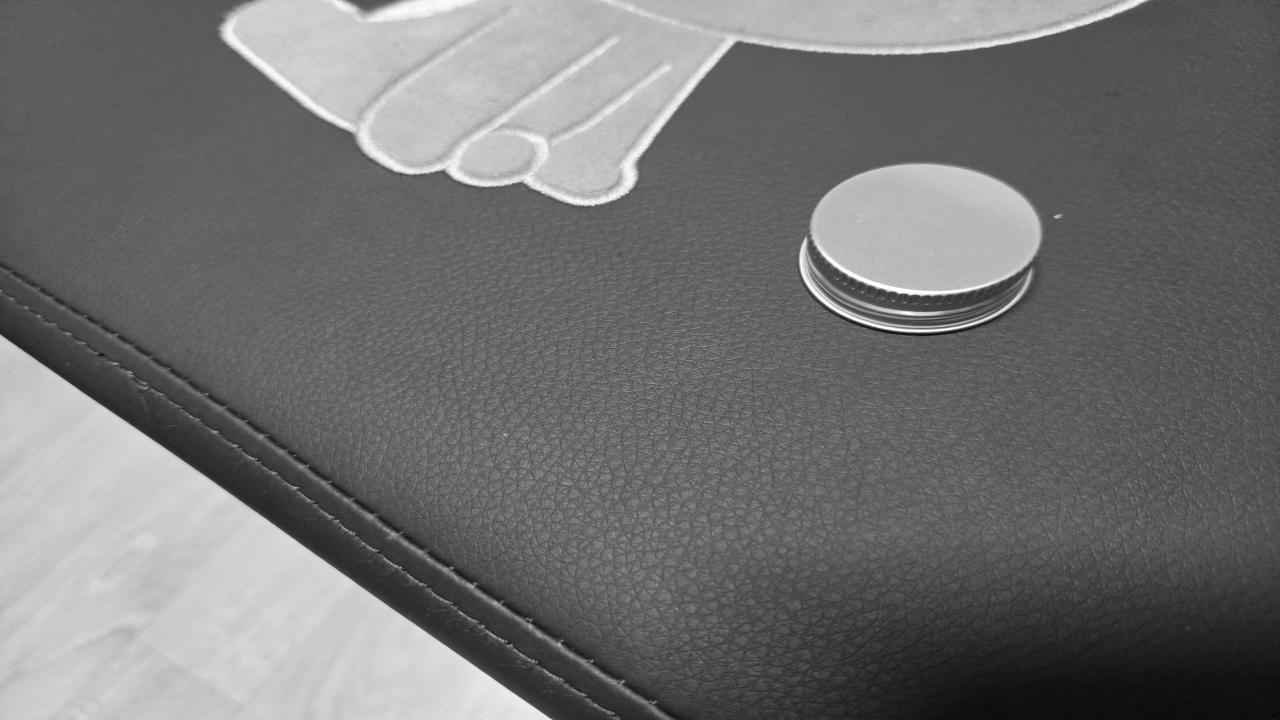bottle_cap: (797, 156, 1048, 336)
